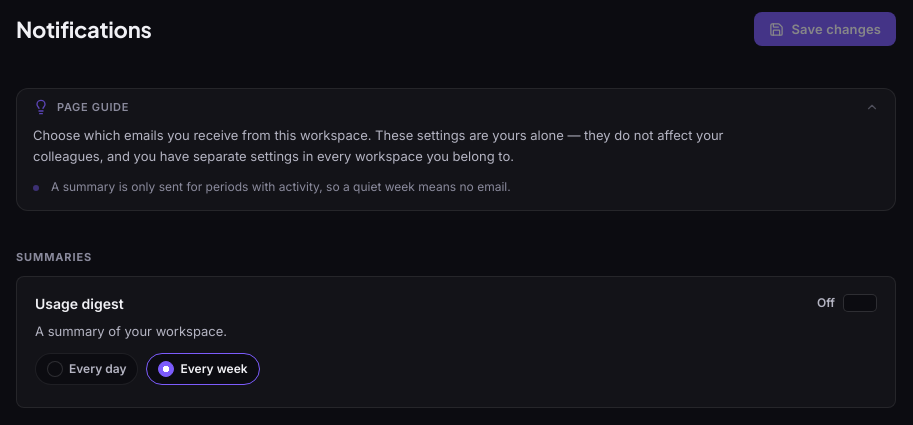
Test case: NotificationSettingsPage › saving › turns the digest ON when a cadence is picked on a switched-off one
Check: the text "Usage digest" is shown, box 35,294 -> 124,316
What coordinates should you click on to do the following:
click the radio button labelled "Every day"
I would click on:
 (55, 369)
Its box is 47,361 -> 63,377.
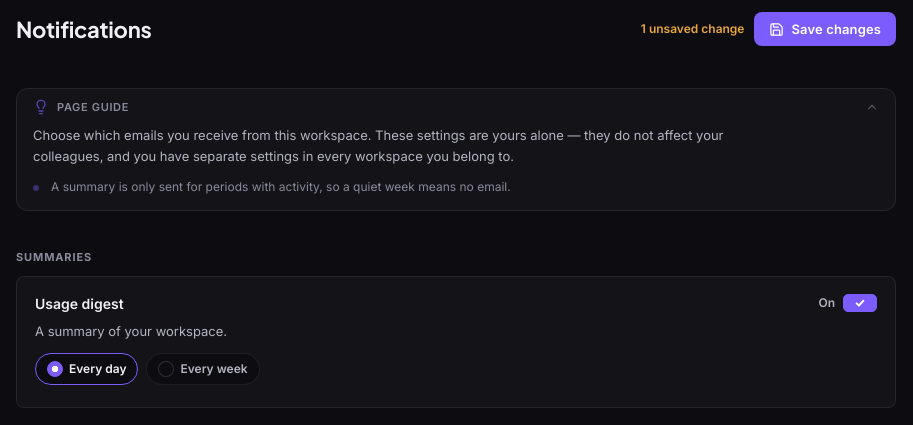
Check: the switch named "Usage digest enabled" is checked, box 843,294 -> 877,312
